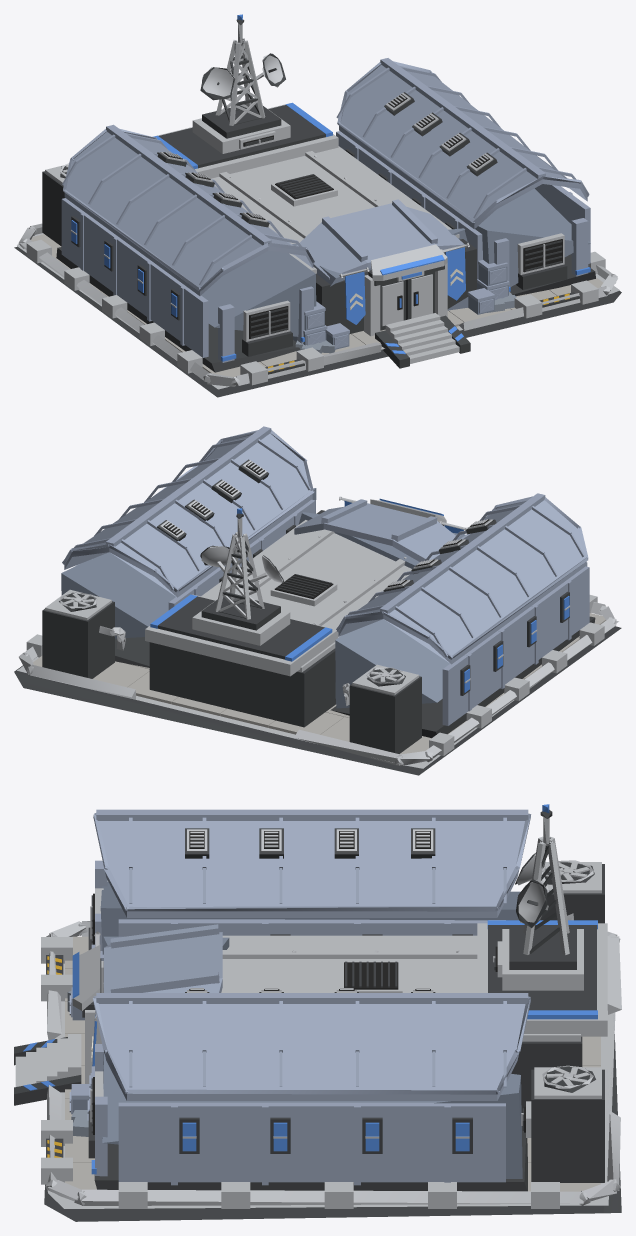
The model's file is barracks.glb.
3 renders of one model, top to bottom at view 1: azimuth 30°, elevation 25°; view 2: azimuth 150°, elevation 25°; view 3: azimuth 270°, elevation 25°, orthographic. The views are drawn at different scales.
Visible parts, largest first — view 1: Base; view 2: Base; view 3: Base.
Boxes of the visible parts, box(x1,y1,x2,y2) form: Base: box(14, 14, 621, 397); Base: box(14, 426, 621, 775); Base: box(14, 804, 621, 1221).
Bounding box in the file's own units: 11.49 × 5.39 × 10.57.
